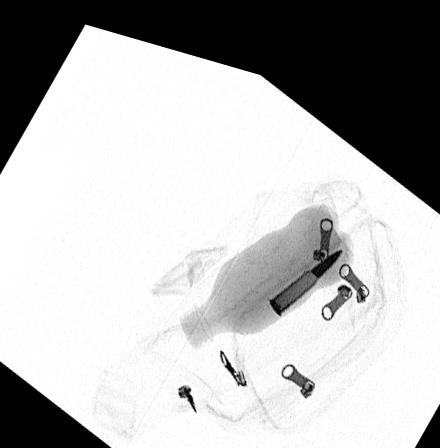Bullet: (268, 226, 344, 299)
